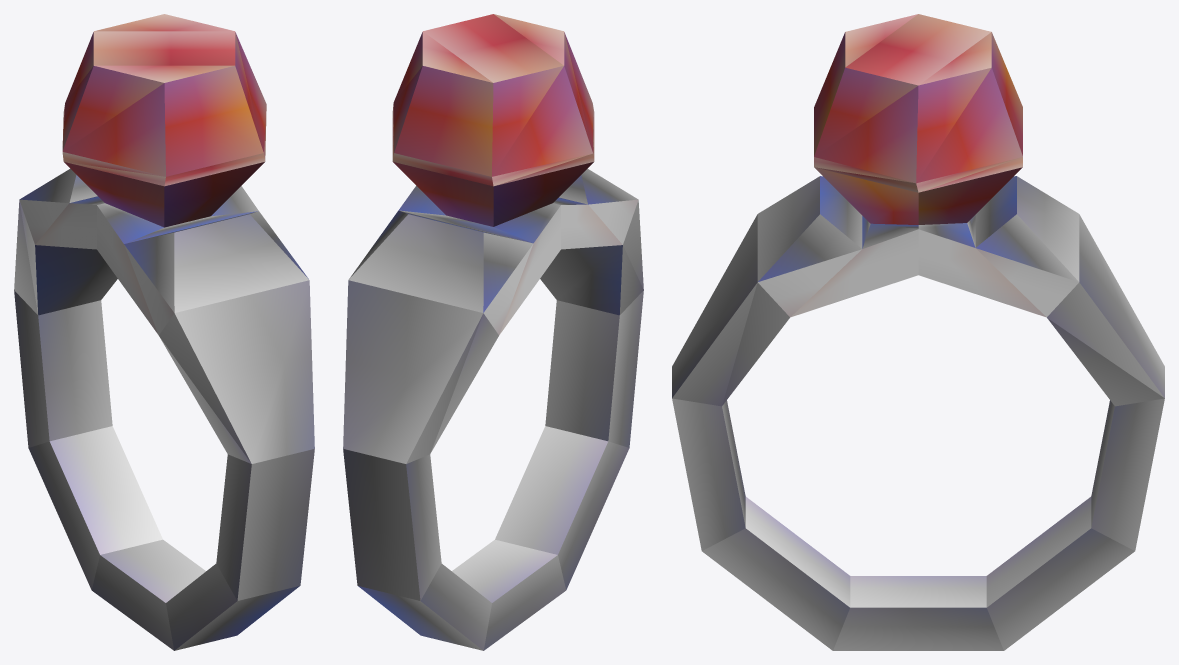
File: ring03.fbx
3 views of the same model, side by side, from view 1: azimuth 30°, elevation 25°; view 2: azimuth 150°, elevation 25°; view 3: azimuth 270°, elevation 25° (orthographic). The views are drawn at different scales.
Parts seen in each view (by area): view 1: ring03; view 2: ring03; view 3: ring03.
Part boxes in pixels (bbox=[...]): ring03: bbox=[14, 14, 314, 650]; ring03: bbox=[343, 14, 643, 650]; ring03: bbox=[672, 14, 1164, 650].
Size of the model in its own units: 48.28 by 129 by 98.48.
